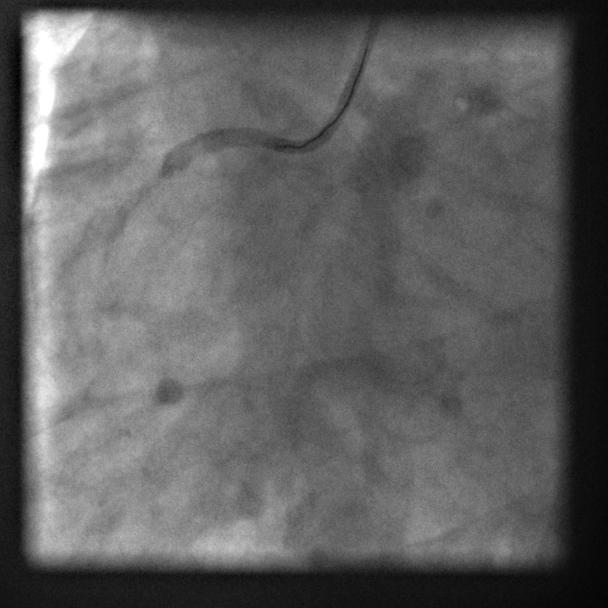Stenosis: (118, 167, 177, 208)
